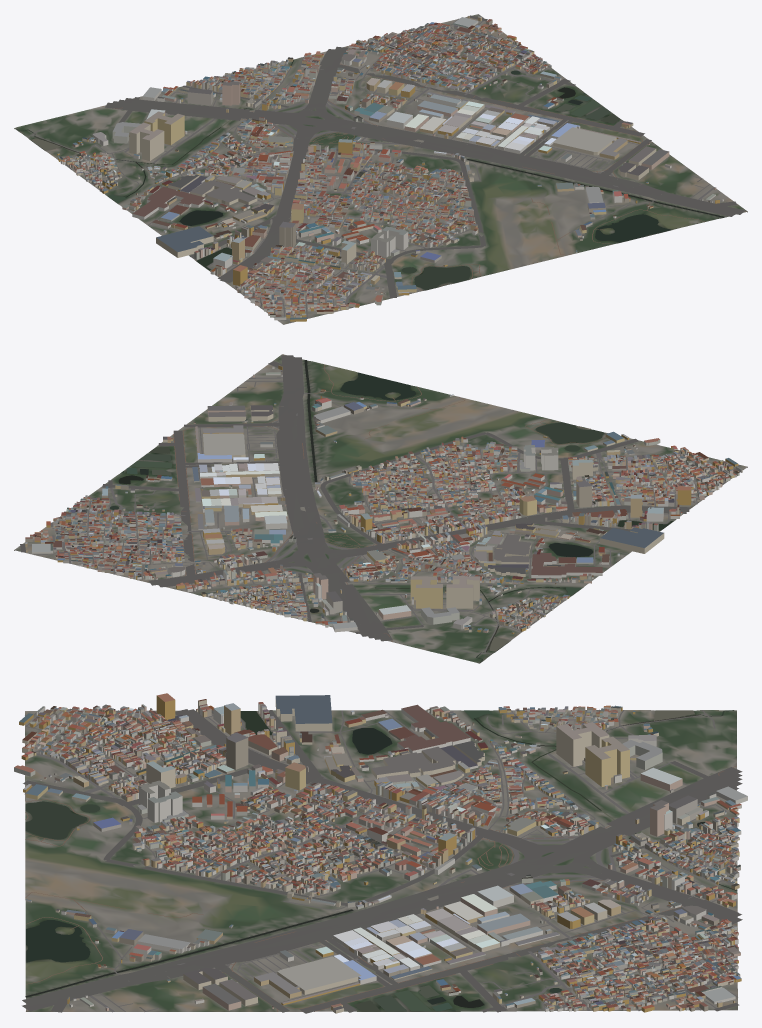
3 views of the same model, one above another, from view 1: azimuth 30°, elevation 25°; view 2: azimuth 150°, elevation 25°; view 3: azimuth 270°, elevation 25° (orthographic). The views are drawn at different scales.
Visible parts, largest first — view 1: buildings, ground, roads, water; view 2: buildings, ground, roads, water; view 3: buildings, ground, roads, water.
Boxes of the visible parts, <box> form: buildings: <box>57,16,723,321</box>; ground: <box>14,14,747,324</box>; roads: <box>27,15,746,323</box>; water: <box>15,59,724,289</box>; buildings: <box>25,365,742,634</box>; ground: <box>14,354,747,663</box>; roads: <box>18,354,741,653</box>; water: <box>110,360,673,662</box>; buildings: <box>14,693,747,1013</box>; ground: <box>25,710,737,1011</box>; roads: <box>22,709,742,1013</box>; water: <box>25,710,737,1011</box>.
Size of the model in its own units: 1445 by 65.91 by 1445.
